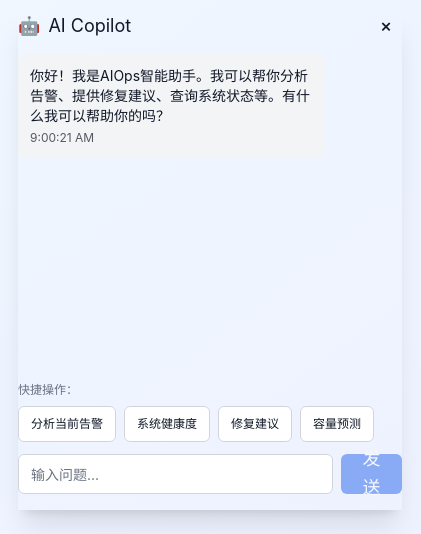
AICopilot Component › Loading State › should show loading indicator while sending
Type "Test" into the field with placeholder "输入问题..." at (175,474), box [18,454,333,494]
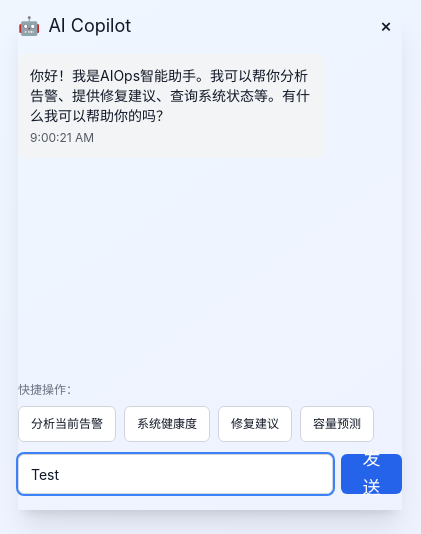
Click the button "发送" at (371,474), box [341,454,402,494]
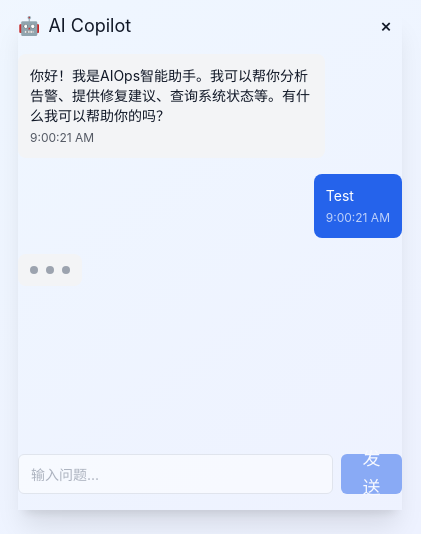
Expected: the 1st element with class "animate-bounce" is shown, [30,266,38,274]
